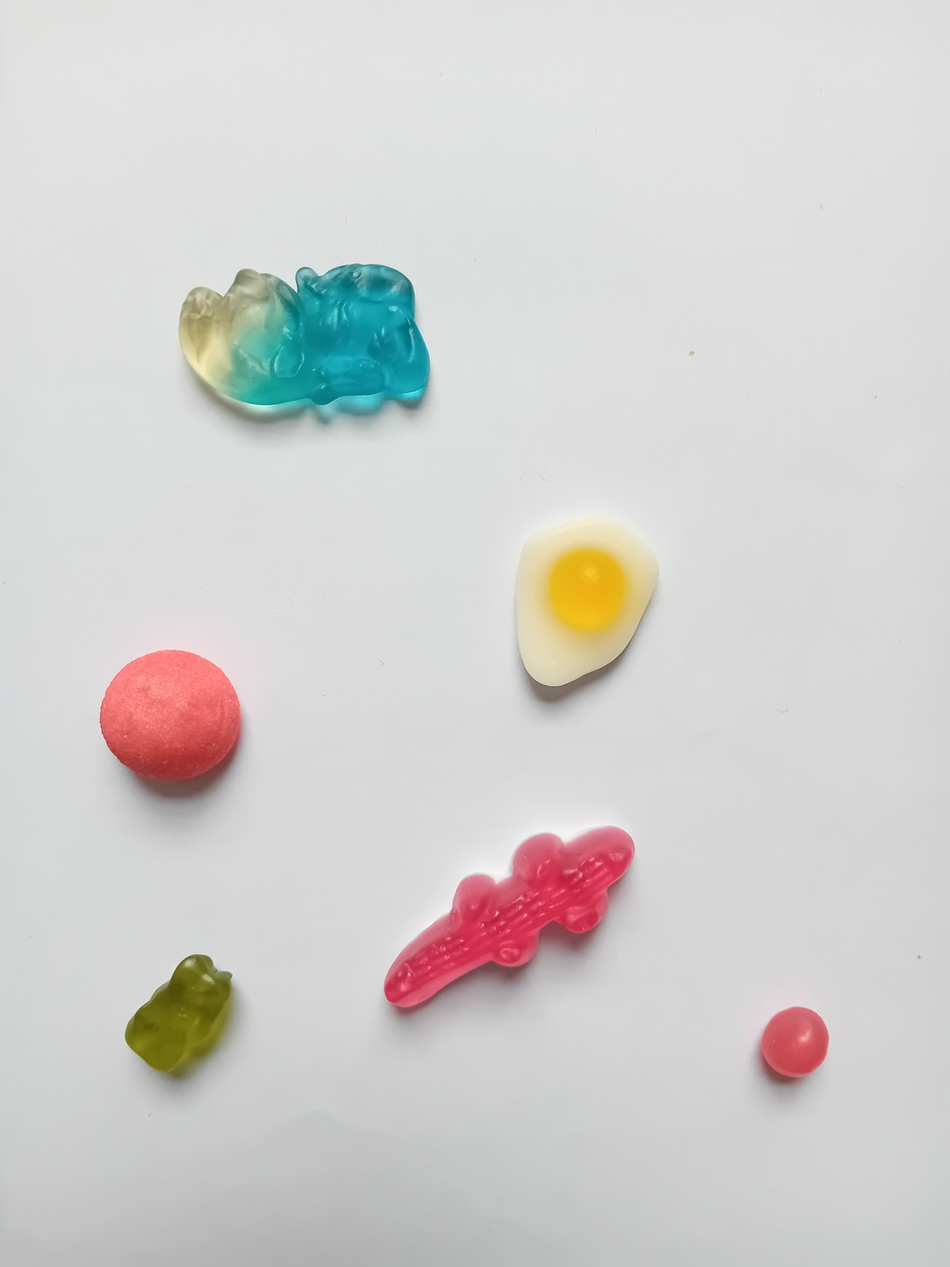crocodile_rouge: (380, 819, 642, 1013)
dragibus_rouge: (750, 992, 833, 1083)
oeuf_oeuf: (507, 517, 666, 693)
ourson_vert: (115, 945, 239, 1078)
schtroumpf_bleu-blanc: (169, 259, 435, 414)
tagada_fraise: (88, 650, 248, 786)
